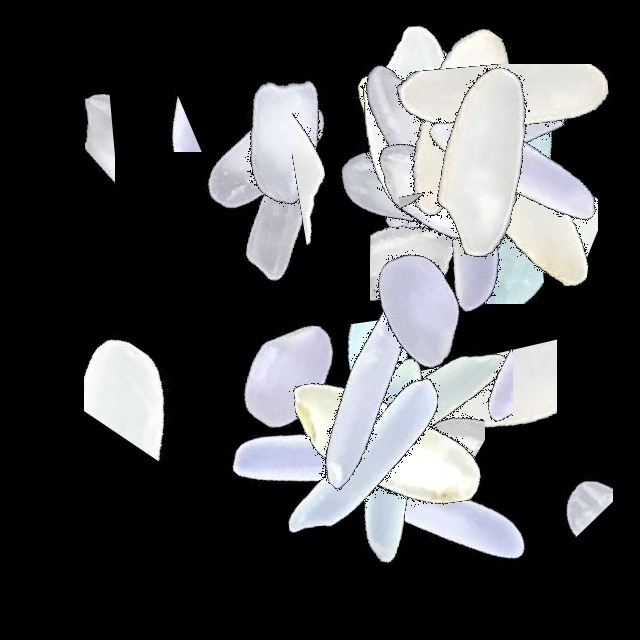Broken: (261, 320, 511, 487), (370, 134, 525, 384), (359, 71, 609, 219), (380, 64, 630, 211), (413, 305, 557, 555), (465, 92, 598, 342), (347, 171, 597, 304), (390, 93, 640, 217), (84, 254, 206, 504), (390, 163, 640, 281), (308, 322, 424, 572), (377, 298, 485, 548), (8, 33, 115, 283), (292, 23, 395, 273), (376, 377, 475, 627), (415, 234, 513, 484), (428, 34, 522, 284), (9, 62, 259, 152), (527, 358, 613, 608), (399, 106, 483, 356), (437, 34, 518, 284), (307, 381, 557, 461), (175, 167, 251, 417)
Full: (320, 57, 570, 307), (197, 340, 447, 590), (303, 38, 553, 288), (158, 86, 408, 336), (334, 0, 584, 250), (314, 9, 564, 259), (390, 78, 640, 328), (142, 29, 392, 279), (288, 290, 538, 540), (162, 249, 412, 499), (337, 51, 587, 301), (315, 390, 565, 640), (282, 56, 532, 306), (268, 333, 518, 583), (297, 0, 547, 250), (160, 12, 410, 262), (290, 5, 540, 255), (261, 318, 511, 568), (238, 329, 488, 579), (390, 81, 640, 331), (242, 271, 492, 521), (347, 96, 597, 346), (315, 64, 565, 314), (335, 0, 585, 250), (291, 181, 541, 431), (390, 43, 640, 293), (360, 37, 610, 287)
